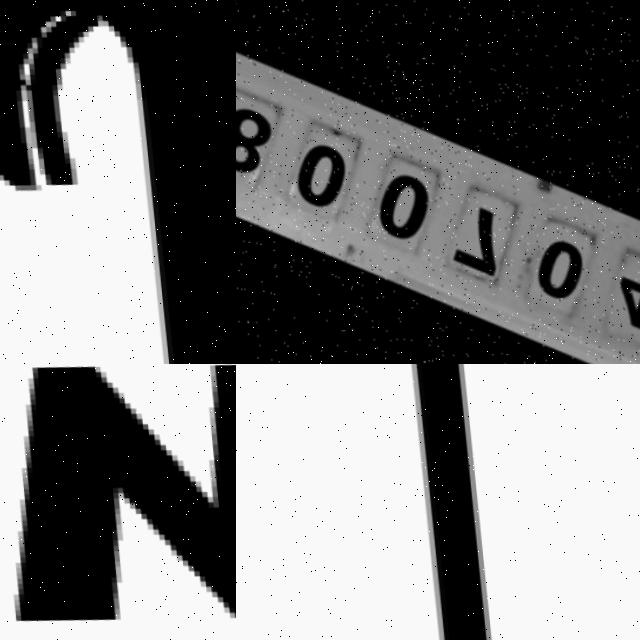0: (265, 112, 364, 235), (349, 144, 447, 262), (508, 204, 602, 323)
4: (585, 236, 640, 349)
7: (426, 175, 525, 295)
8: (236, 79, 288, 198)
J: (0, 0, 236, 364)
L: (378, 364, 537, 640)
W: (0, 364, 236, 640)
